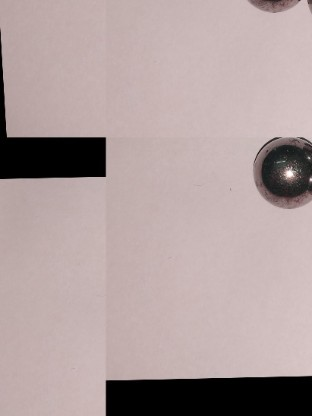ironball: (245, 137, 311, 214)
